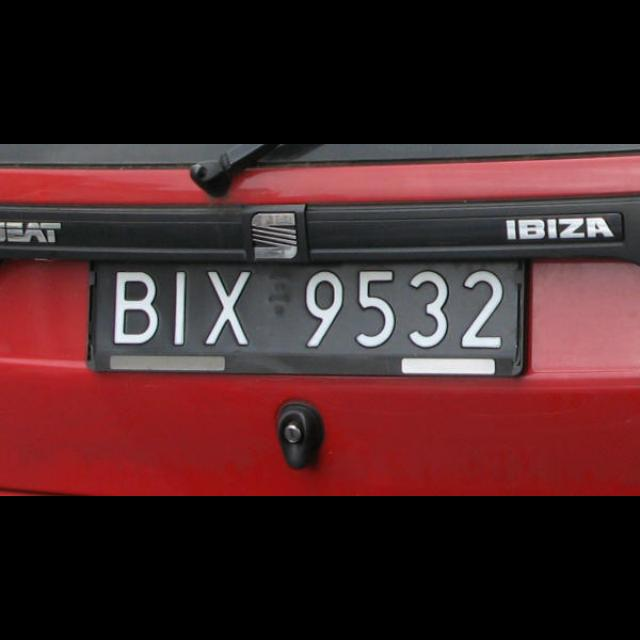pl_license_plate: (90, 264, 518, 358)
